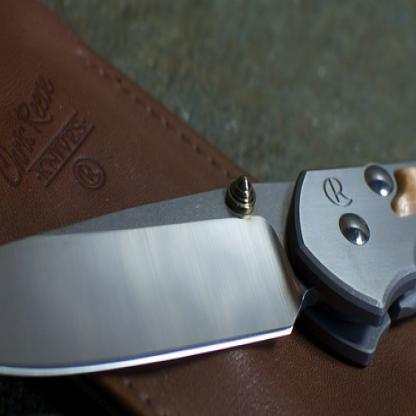knife: (0, 133, 415, 388)
